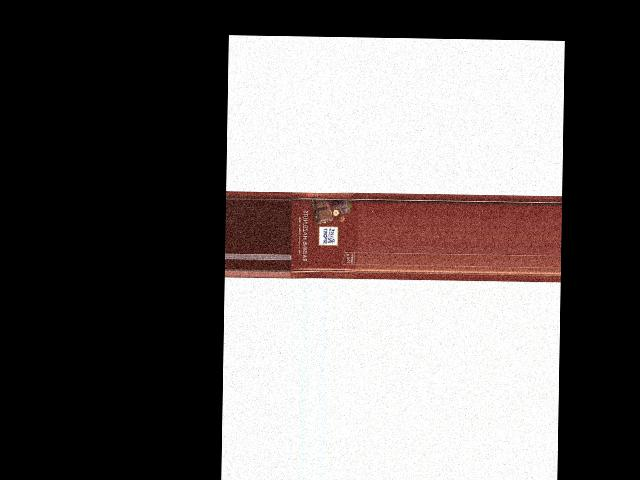chocolate: (289, 190, 358, 279)
